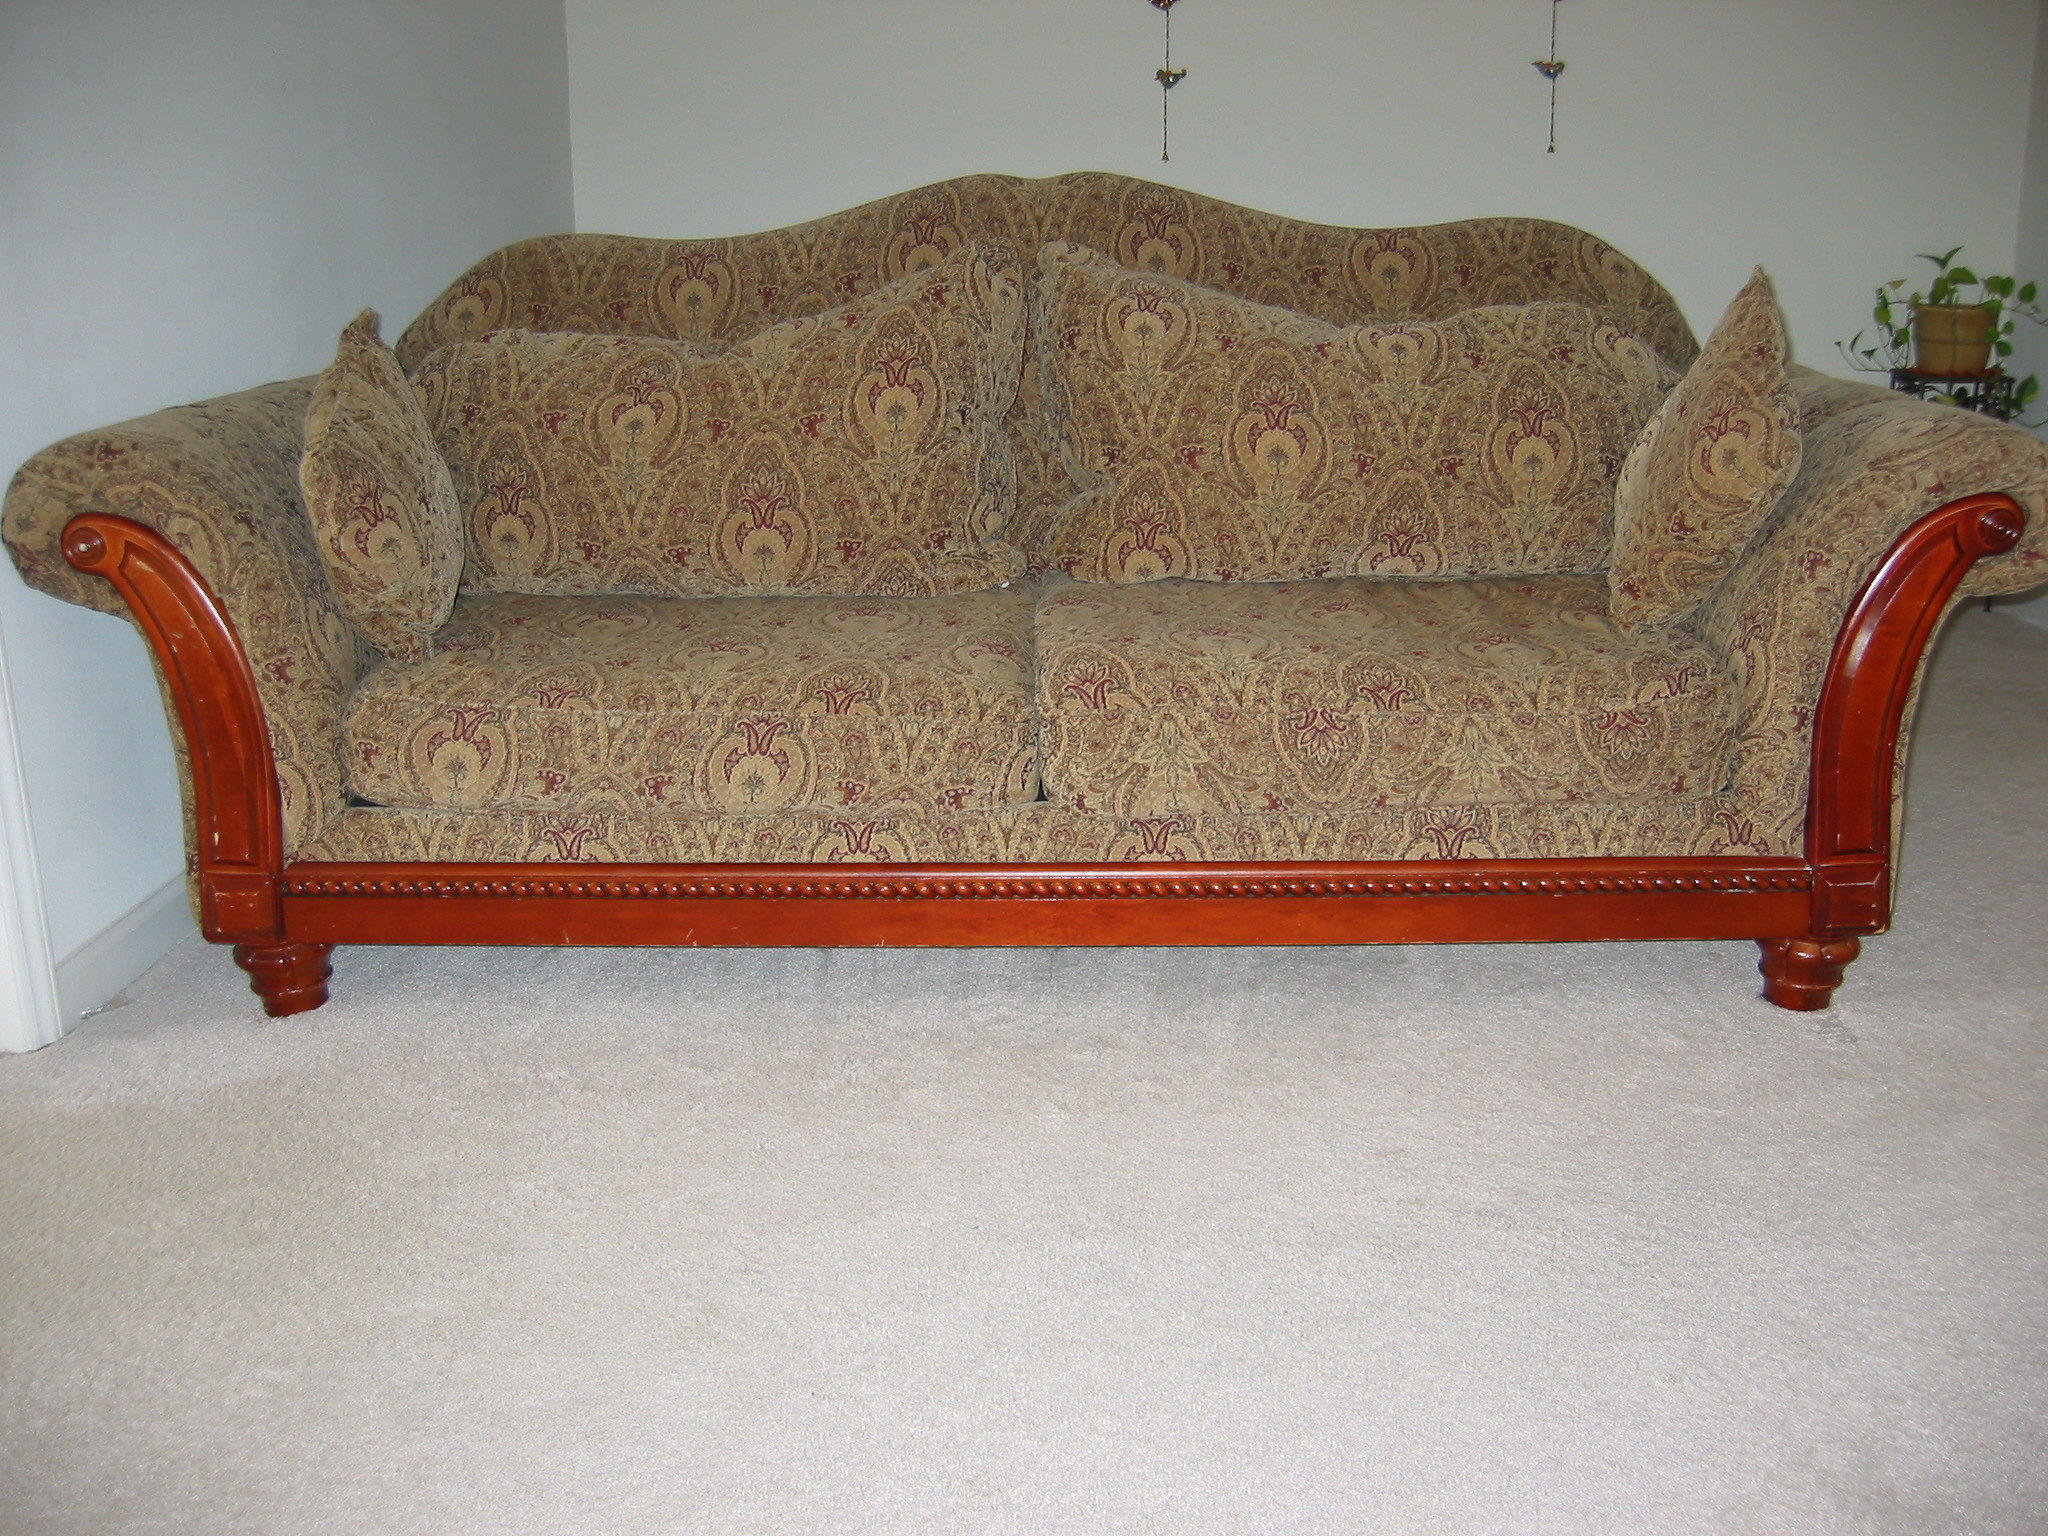sofa: (15, 173, 2038, 1058)
